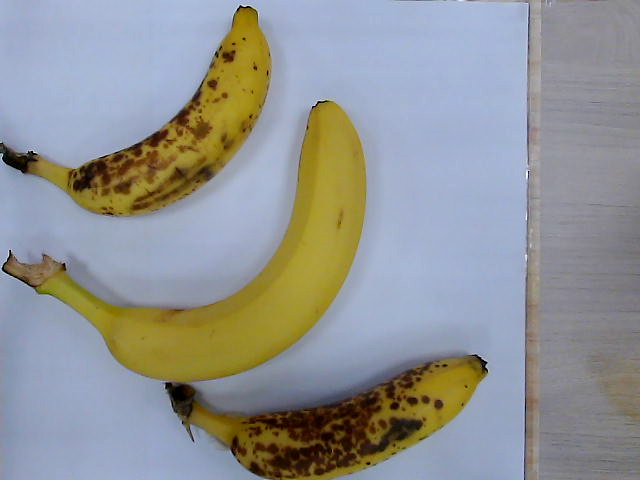fresh_banana: (6, 102, 367, 381)
rotten_banana: (3, 6, 273, 218), (165, 356, 488, 480)
